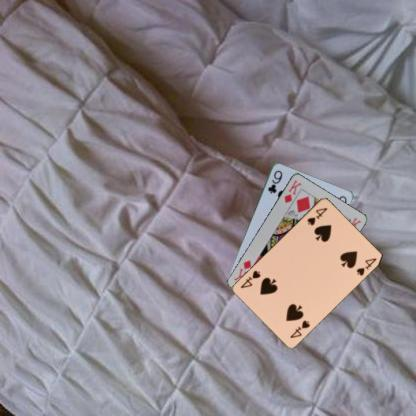4s: (304, 204, 329, 226), (287, 317, 312, 339)
9c: (265, 168, 284, 194)
Kd: (281, 177, 303, 204)
